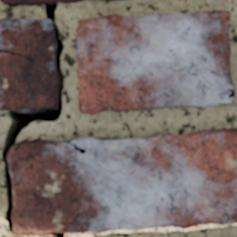brick: (8, 128, 236, 234), (77, 11, 233, 113), (0, 19, 60, 109), (1, 0, 80, 4)
crack: (0, 2, 64, 234), (63, 140, 87, 154), (227, 88, 235, 104), (43, 231, 65, 236), (7, 3, 19, 7)
